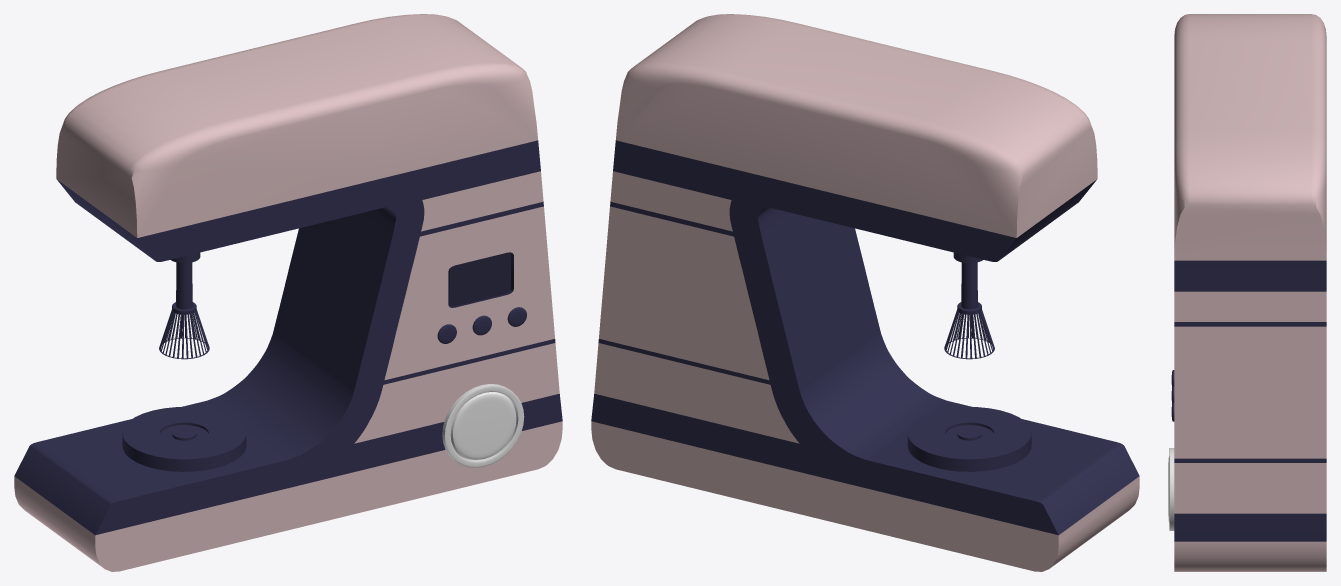
Rendered from mixer.fbx.
The picture shows the model from 3 angles, left to right: view 1: azimuth 30°, elevation 25°; view 2: azimuth 150°, elevation 25°; view 3: azimuth 270°, elevation 25°; orthographic projection. The views are drawn at different scales.
Visible parts, largest first — view 1: Mixer; view 2: Mixer; view 3: Mixer.
Part boxes in pixels (x1,y1,x2,y2): Mixer: (14,14,562,571); Mixer: (591,14,1139,571); Mixer: (1168,14,1326,571).
Bounding box in the file's own units: 40 × 34.07 × 12.46.
